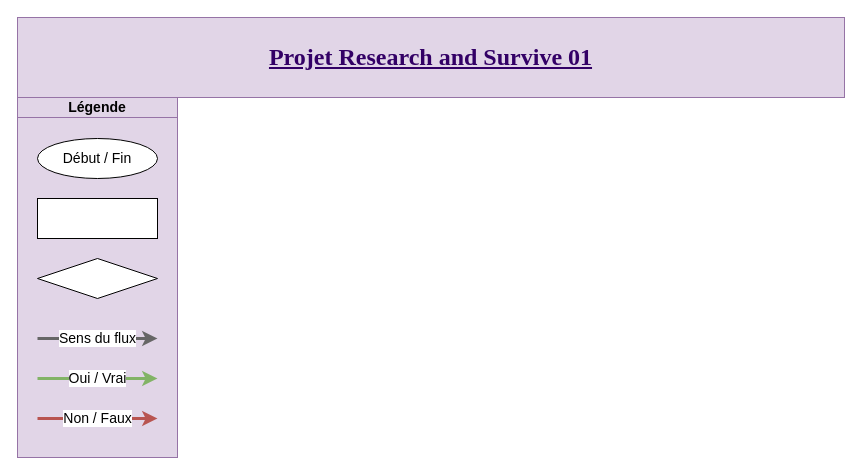
Image size: 862x475. Some labels were removed from this diagram. Each missing label, with the centre of its shape:
Choix: pixel 97 278
Étape / Fonction: pixel 97 218
